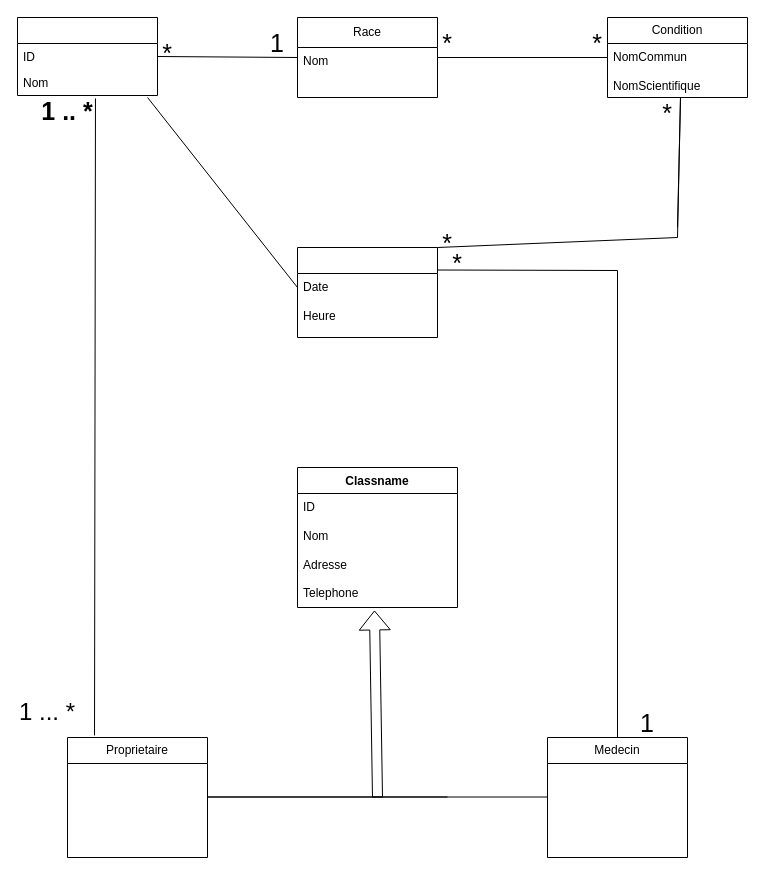
Image size: 765x875. Some labels were removed from this diagram. Each missing label, with the box of its shape:
Animal: (16, 16, 158, 96)
Rendez-vous: (296, 246, 438, 338)
